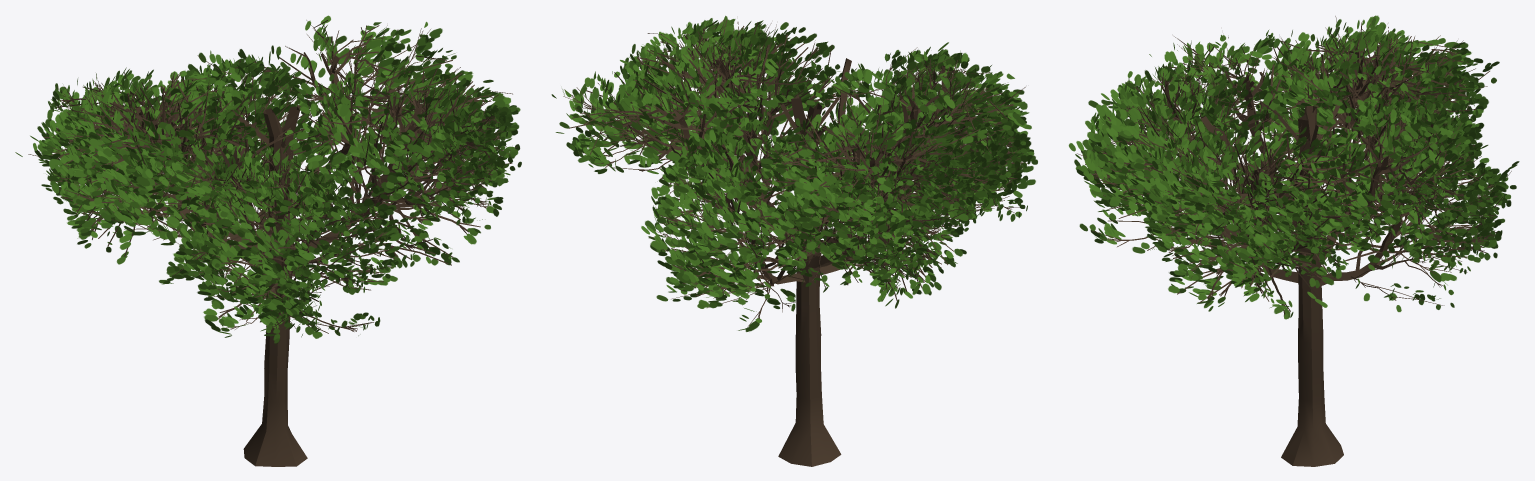
The picture shows the model from 3 angles, left to right: view 1: azimuth 30°, elevation 25°; view 2: azimuth 150°, elevation 25°; view 3: azimuth 270°, elevation 25°; orthographic projection.
Visible parts, largest first — view 1: oak 01.001_trunk_Mat.001_0.029; view 2: oak 01.001_trunk_Mat.001_0.029; view 3: oak 01.001_trunk_Mat.001_0.029.
Boxes of the visible parts, box(x1,y1,x2,y2) form: oak 01.001_trunk_Mat.001_0.029: box(15, 15, 521, 466); oak 01.001_trunk_Mat.001_0.029: box(551, 15, 1037, 466); oak 01.001_trunk_Mat.001_0.029: box(1068, 15, 1519, 466).
Bounding box in the file's own units: 6.16 × 5.04 × 5.66.
2 materials, 1 textured.
